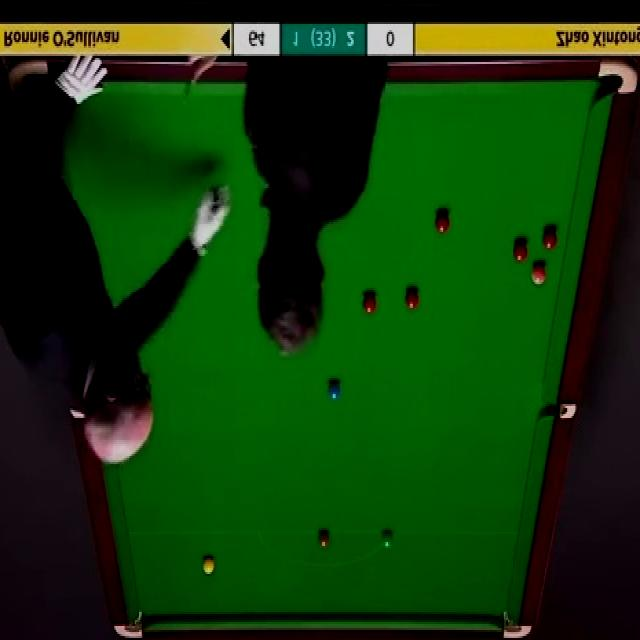blue-ball: (328, 379, 341, 401)
brown-ball: (318, 530, 330, 547)
green-ball: (382, 530, 393, 550)
pink-ball: (531, 262, 548, 287)
red-ball: (433, 210, 451, 235), (405, 288, 420, 313), (362, 291, 376, 315), (513, 241, 528, 262), (544, 227, 557, 249)
yellow-ball: (202, 554, 216, 574)
